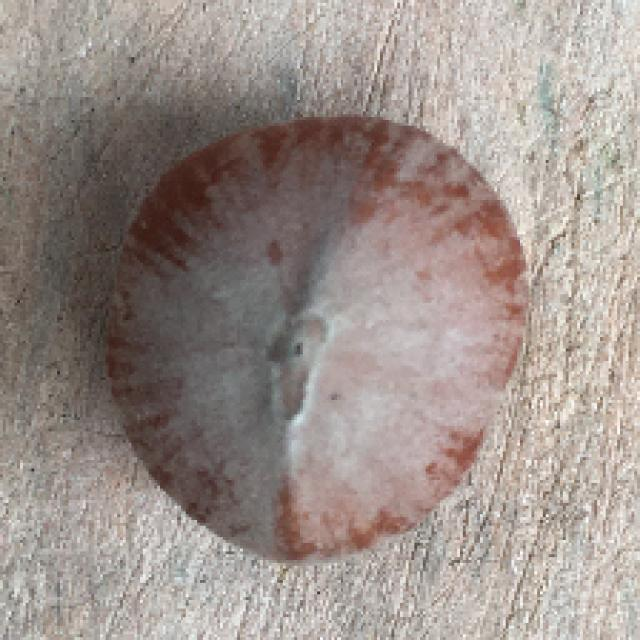hazelnut: (97, 106, 534, 564)
